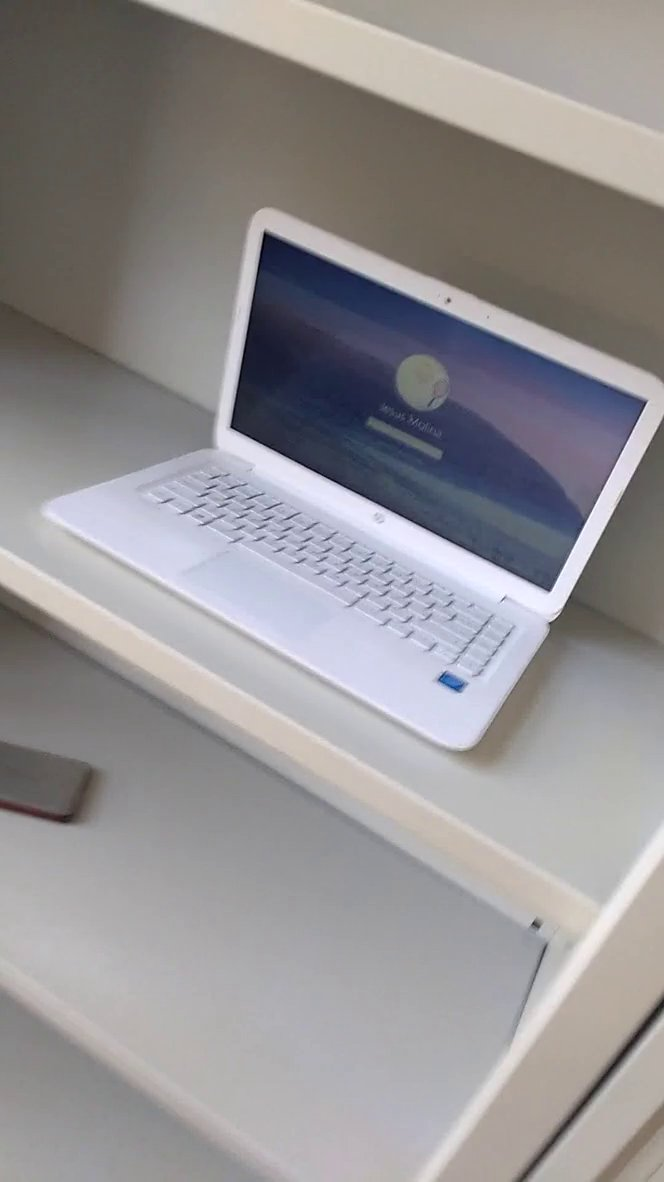laptop: (31, 190, 664, 762)
